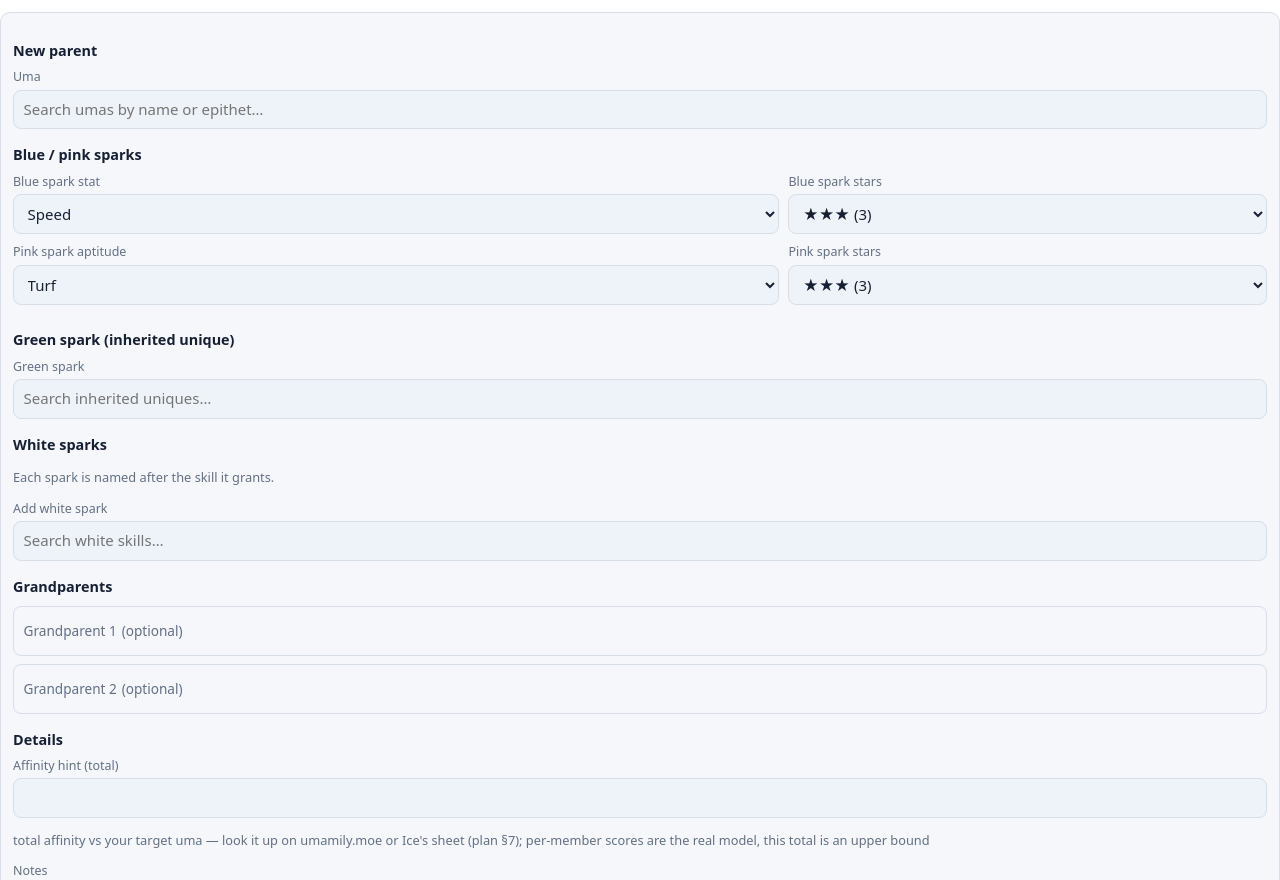
Test: ParentForm — planning horizon › current (default): a JP inherited-unique is absent from the green-spark options
Type "JP Inherited" into the search field labelled "Green spark" at (640, 399), box [13,379,1267,419]
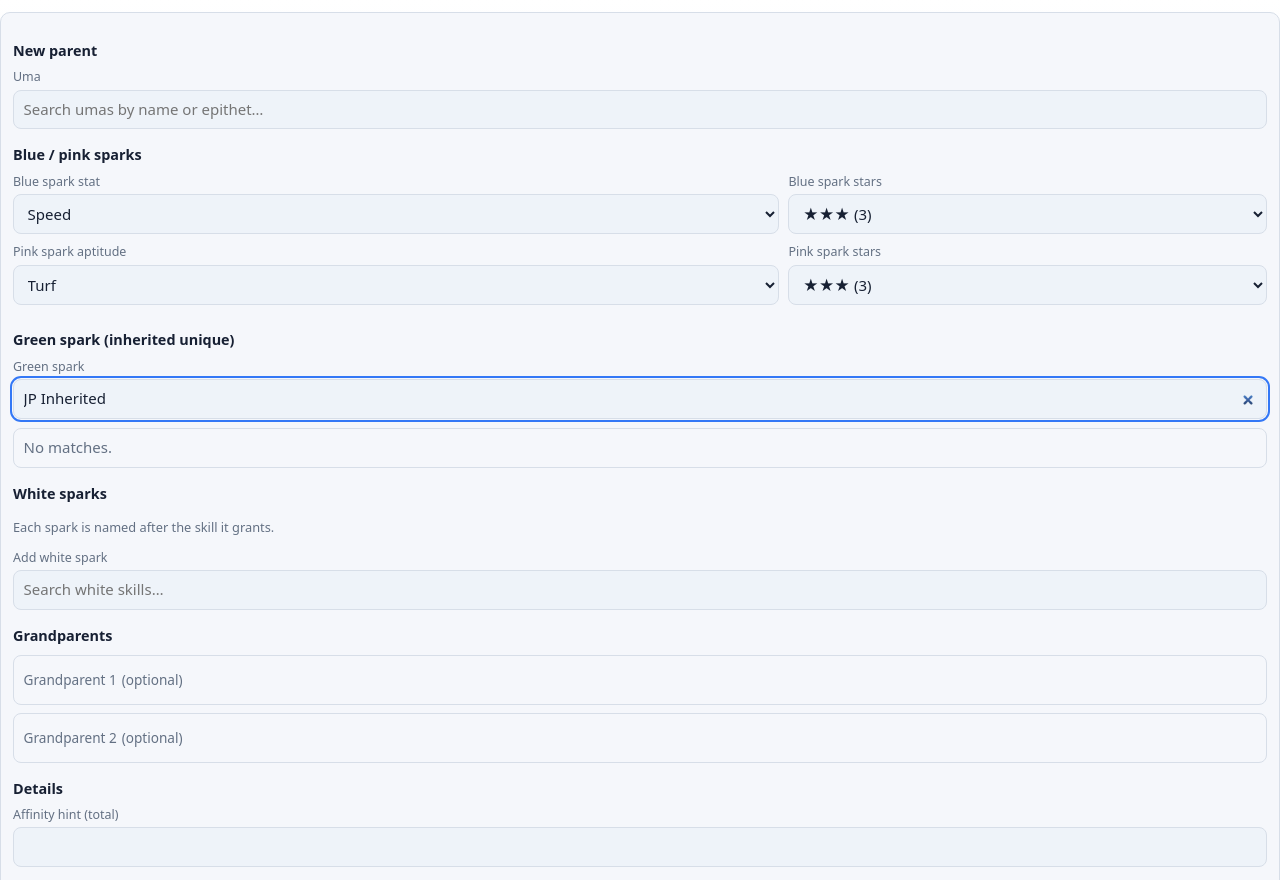
Check: the list item "No matches." is shown, box [24,437,112,457]
Replace the text in the search field labelled "Green spark" with "giving up" at (640, 399), box [13,379,1267,419]
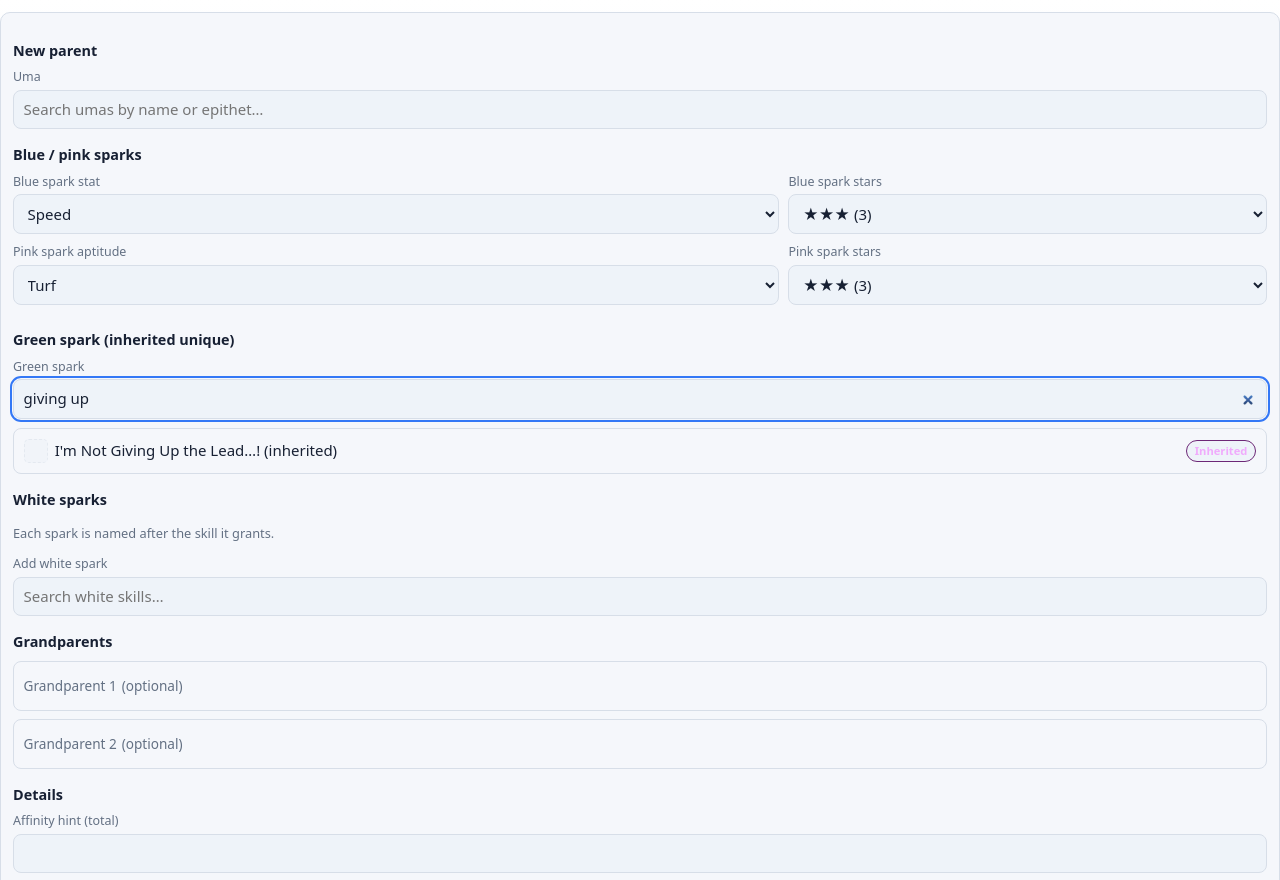
Check: the button "I'm Not Giving Up the Lead…! (inherited) Inherited" is shown, box [14,429,1266,473]
